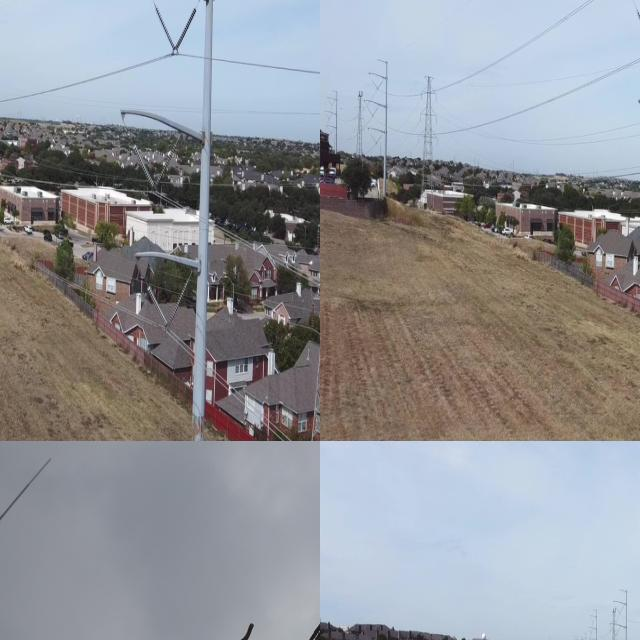杆塔: (303, 88, 320, 441), (412, 63, 442, 217), (350, 75, 372, 162), (607, 605, 619, 640)
正常绝缘子: (144, 136, 185, 209), (163, 0, 203, 68), (159, 272, 197, 343), (136, 270, 174, 337), (127, 134, 160, 205), (146, 0, 179, 58), (633, 0, 640, 27)
